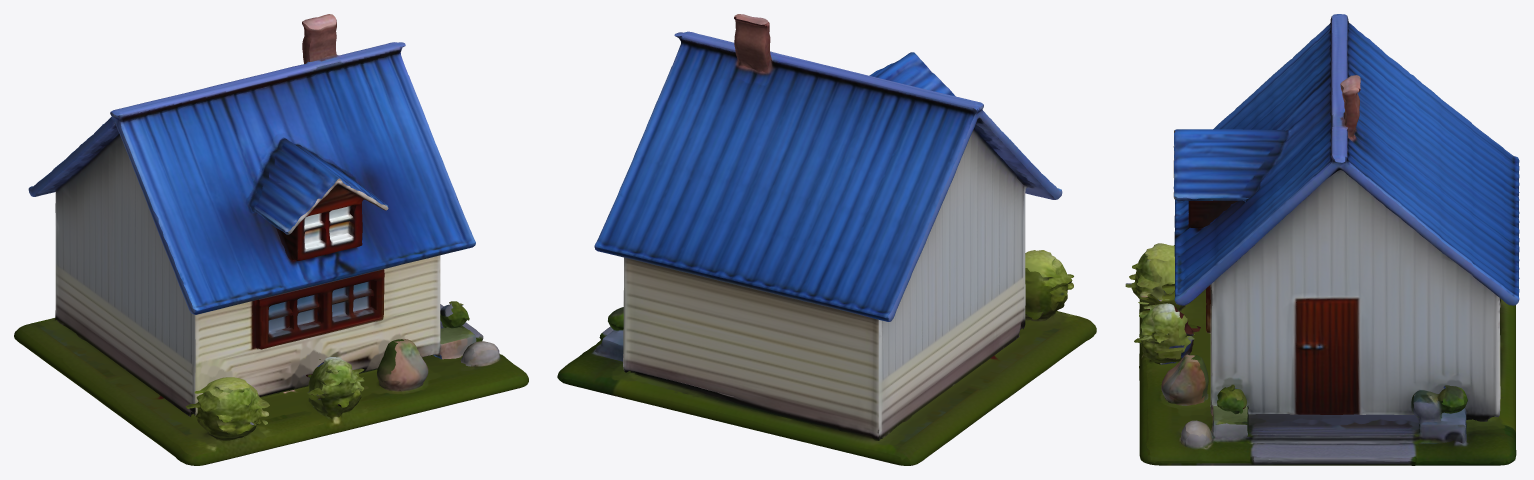
File: casa_chapa.glb
3 renders of one model, left to right at view 1: azimuth 30°, elevation 25°; view 2: azimuth 150°, elevation 25°; view 3: azimuth 270°, elevation 25°, orthographic. The views are drawn at different scales.
Visible parts, largest first — view 1: tmp4wlqfrqf.ply; view 2: tmp4wlqfrqf.ply; view 3: tmp4wlqfrqf.ply.
Part boxes in pixels (bbox=[...]): tmp4wlqfrqf.ply: bbox=[14, 14, 528, 465]; tmp4wlqfrqf.ply: bbox=[557, 14, 1096, 465]; tmp4wlqfrqf.ply: bbox=[1125, 14, 1519, 465].
Bounding box in the file's own units: 0.993 × 0.8638 × 0.9406.
Materials: 1 (1 with a texture image).
